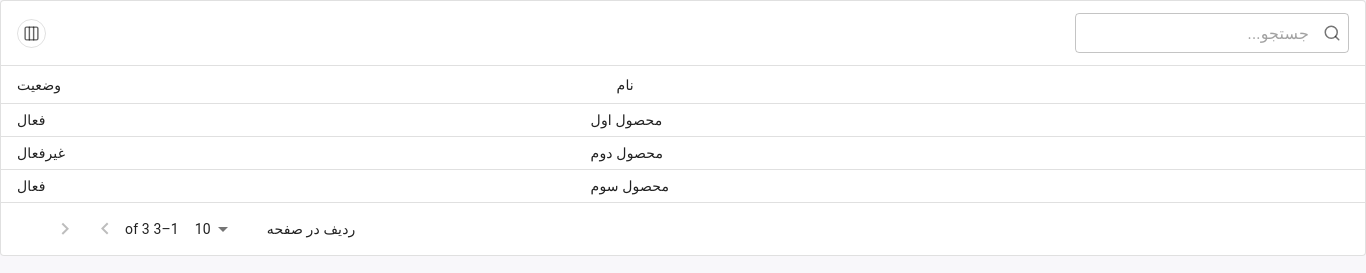
DataTable › filters rows based on search input
Type "دوم" into the field labelled "جستجو".
click(1206, 33); type("دوم")  # box [1089,13,1323,53]
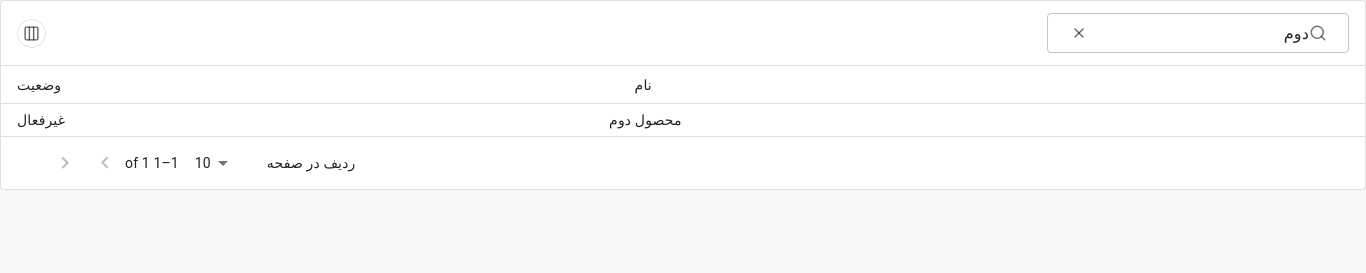
Expected: the text "محصول دوم" is shown, [593,104,1365,137]
Result: the text "محصول اول" is gone
Result: the text "محصول سوم" is gone
